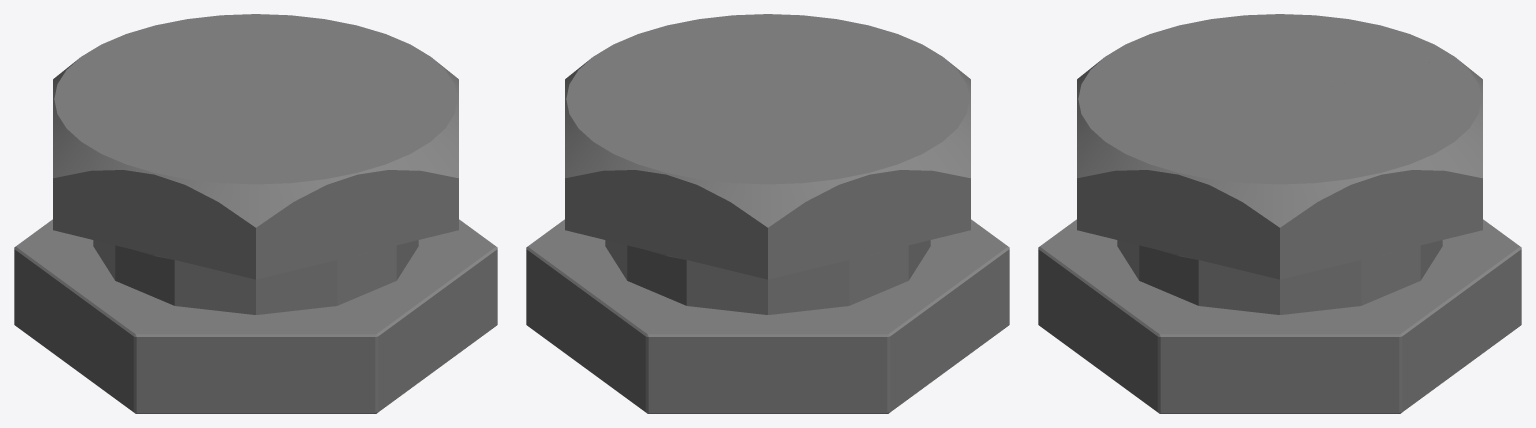
The model's file is TwoHighConnector.fbx.
3 views of the same model, side by side, from view 1: azimuth 30°, elevation 25°; view 2: azimuth 150°, elevation 25°; view 3: azimuth 270°, elevation 25° (orthographic).
Visible parts, largest first — view 1: 2HighConnection.001; view 2: 2HighConnection.001; view 3: 2HighConnection.001.
Part boxes in pixels (<box>): 2HighConnection.001: <box>14,14,497,413</box>; 2HighConnection.001: <box>526,14,1009,413</box>; 2HighConnection.001: <box>1038,14,1521,413</box>.
Bounding box in the file's own units: 2.12 × 1.13 × 2.19.
